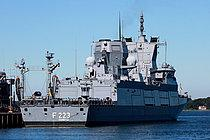MIL_Ship: (20, 27, 193, 126)
